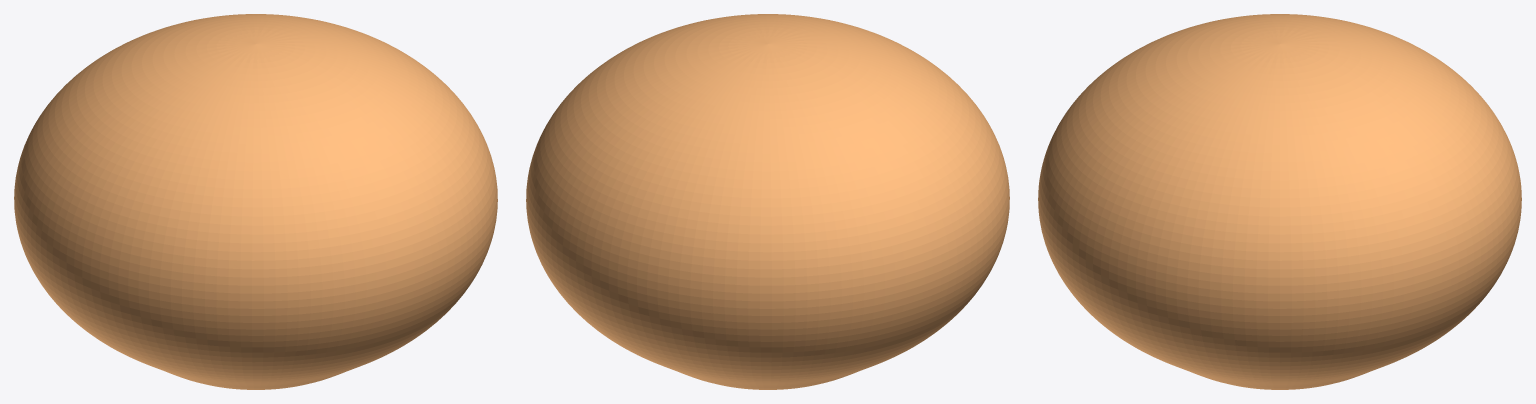
Rendered from Slime_Orange.fbx.
3 views of the same model, side by side, from view 1: azimuth 30°, elevation 25°; view 2: azimuth 150°, elevation 25°; view 3: azimuth 270°, elevation 25° (orthographic).
Parts seen in each view (by area): view 1: Slime_Orange; view 2: Slime_Orange; view 3: Slime_Orange.
Boxes of the visible parts, bbox=[...] form: Slime_Orange: bbox=[14, 14, 497, 389]; Slime_Orange: bbox=[526, 14, 1009, 389]; Slime_Orange: bbox=[1038, 14, 1521, 389].
Bounding box in the file's own units: 0.9872 × 0.6992 × 0.9872.
